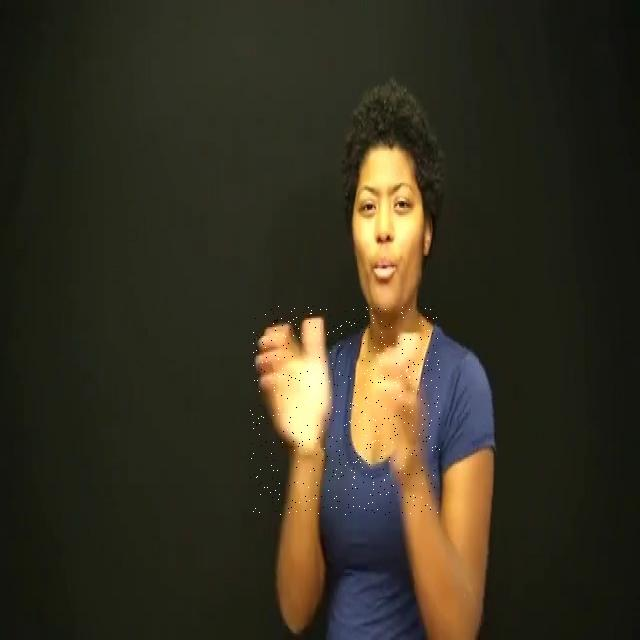small: (250, 306, 440, 515)
